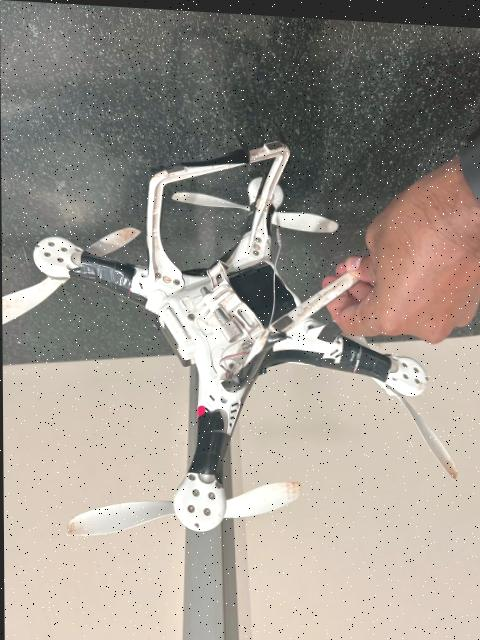drone: (1, 113, 453, 576)
